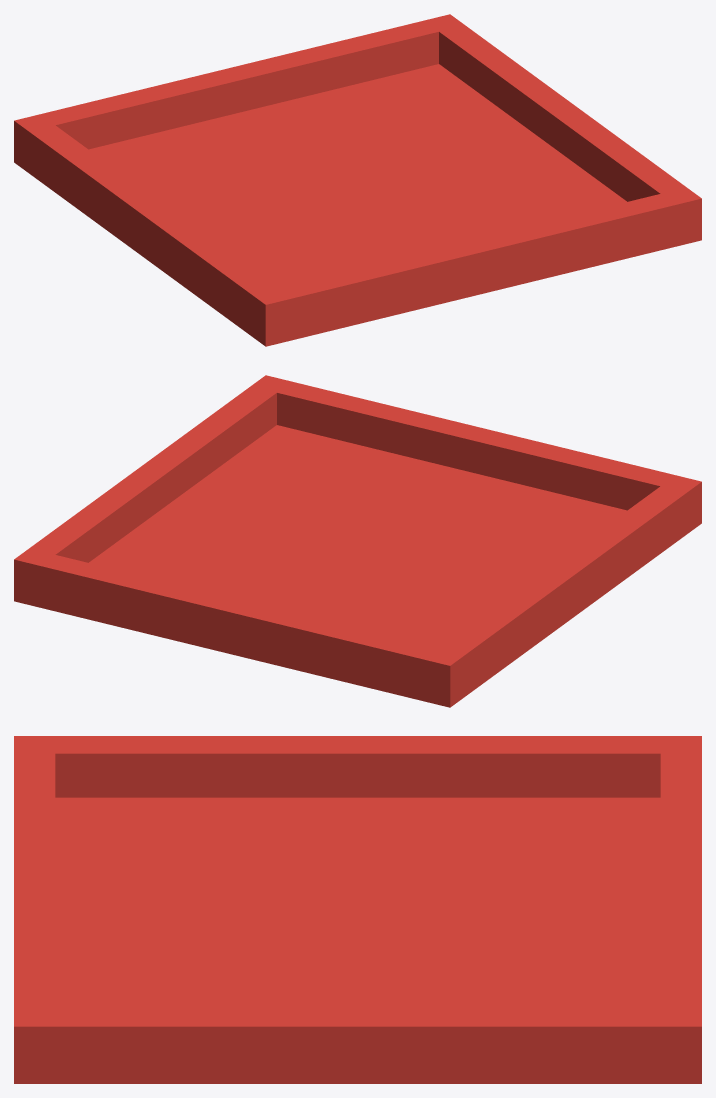
The model's file is bacaboules.glb.
3 renders of one model, top to bottom at view 1: azimuth 30°, elevation 25°; view 2: azimuth 150°, elevation 25°; view 3: azimuth 270°, elevation 25°, orthographic. The views are drawn at different scales.
Parts seen in each view (by area): view 1: reservoir; view 2: reservoir; view 3: reservoir.
Boxes of the visible parts, left/top/right/bottom form: reservoir: left=14, top=14, right=701, bottom=346; reservoir: left=14, top=375, right=701, bottom=707; reservoir: left=14, top=736, right=701, bottom=1083.
Size of the model in its own units: 7.83 by 0.7174 by 7.83.
